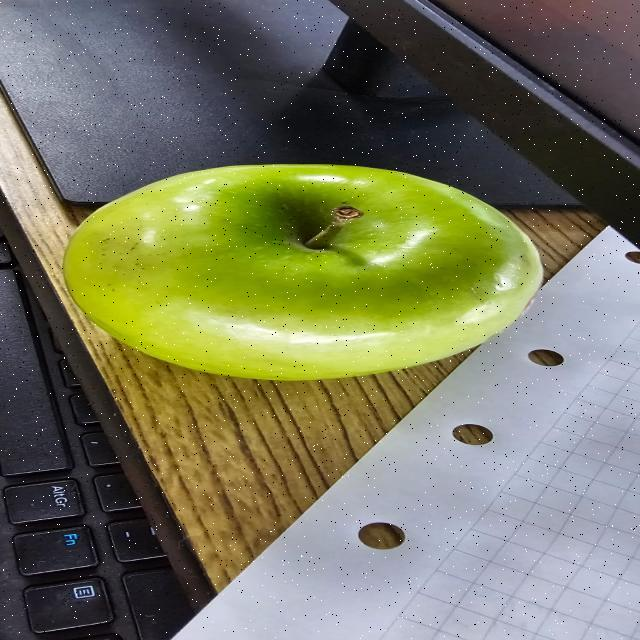Apel Granny Smith: (51, 155, 568, 391)
